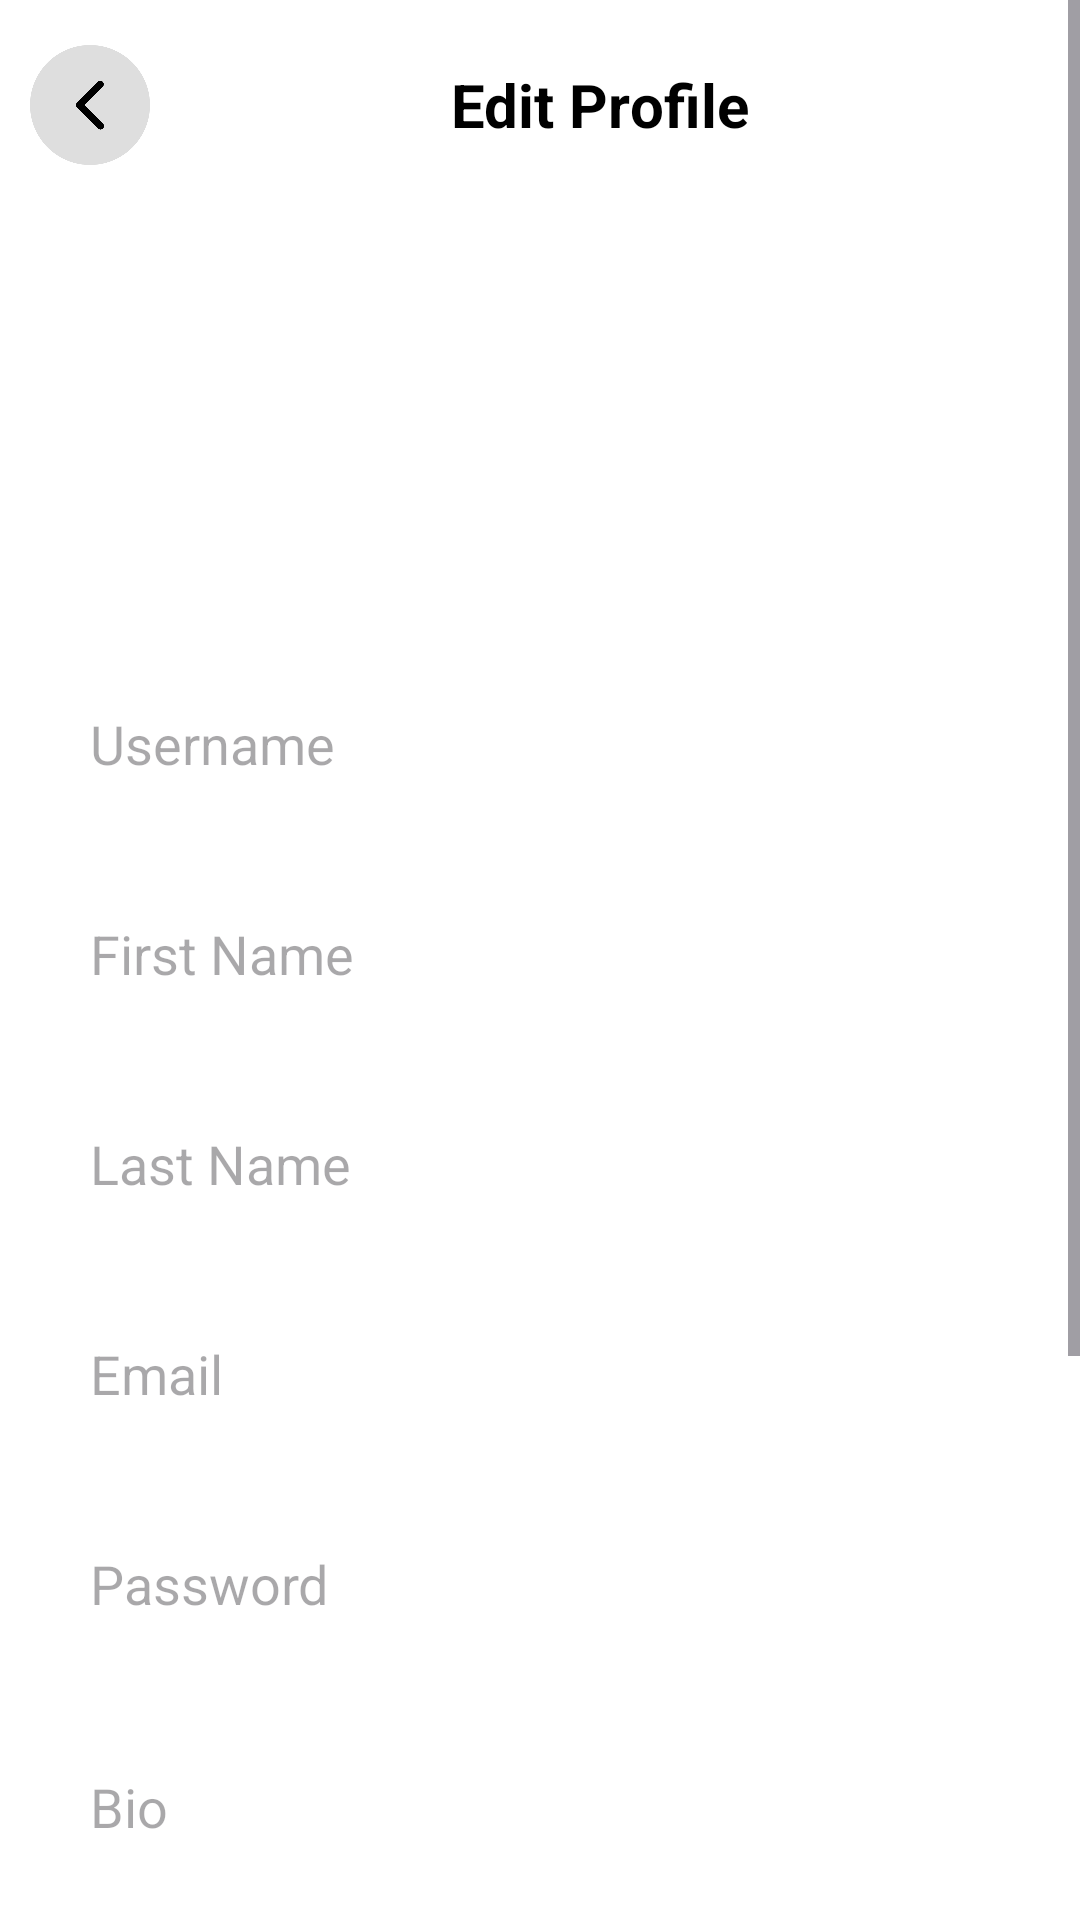

Icons on this 1080w x 1920h Android screen, each with its box as (x1, y1, x2, y2):
lefttt: (30, 45, 150, 165)
